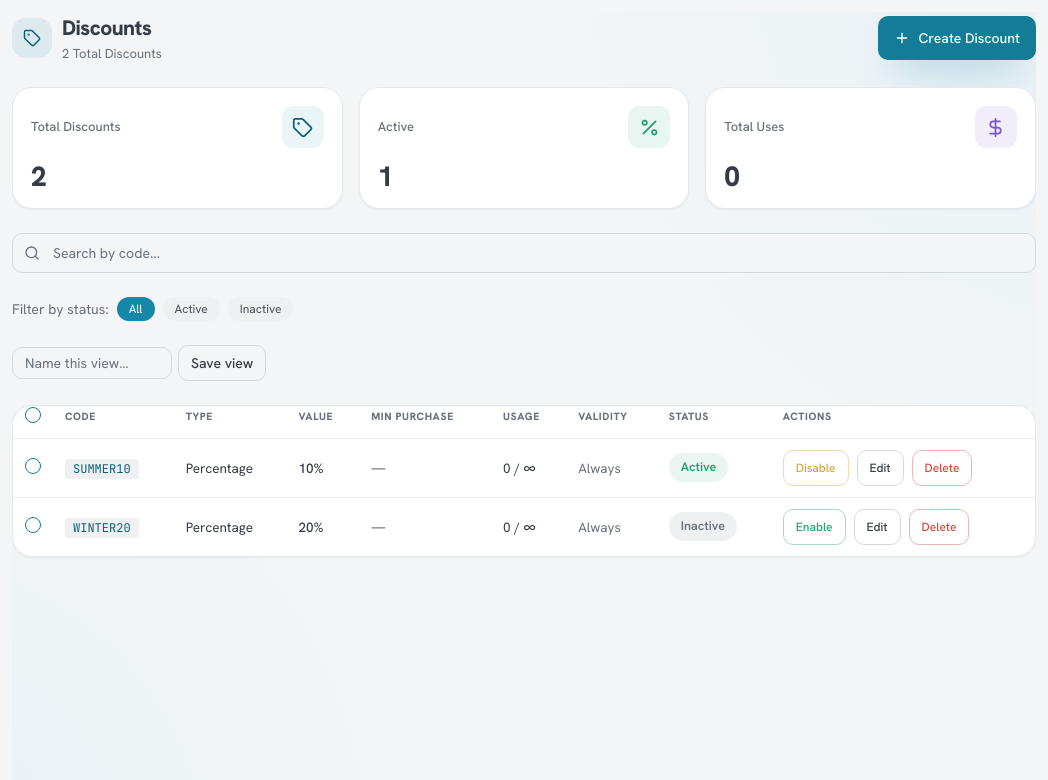
Test: DiscountManagement saved filters (#273) › narrows the book by code search
Expected: the text "SUMMER10" is shown, top-left (65, 459), bottom-right (139, 479)
Expected: the text "WINTER20" is shown, top-left (65, 518), bottom-right (139, 538)
Type "SUMMER" into the search field with placeholder "Search by code..." at {"x": 524, "y": 253}, box top-left (12, 233), bottom-right (1036, 273)
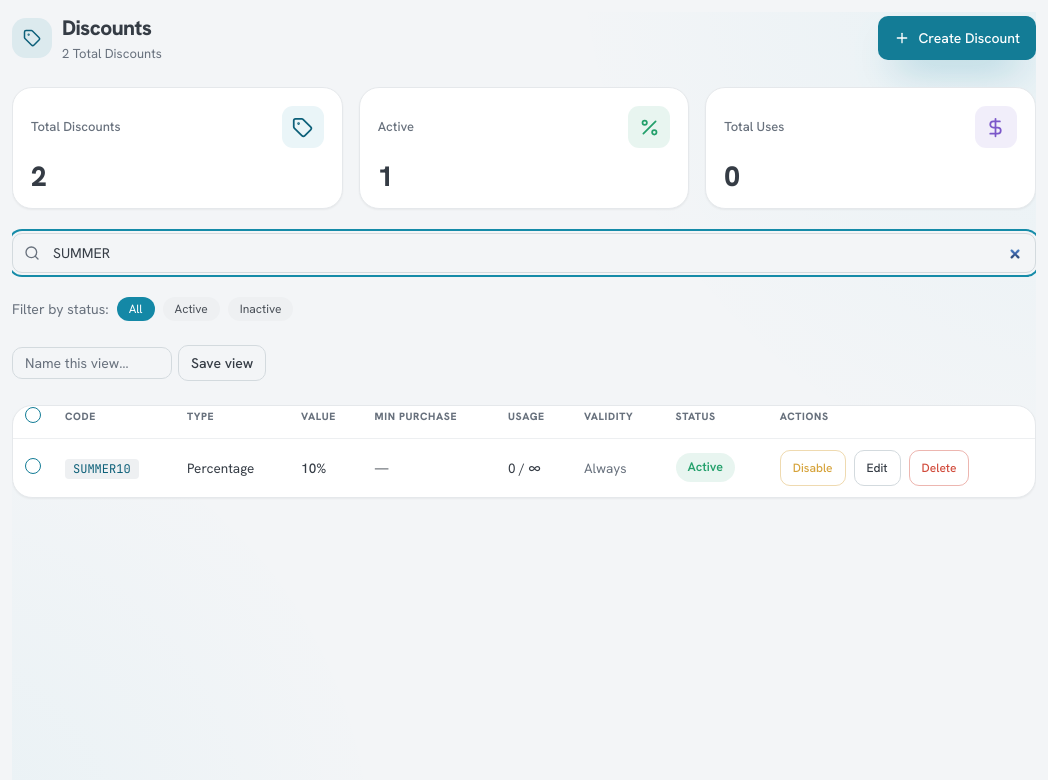
Expected: the text "SUMMER10" is shown, top-left (65, 459), bottom-right (139, 479)
Expected: the text "WINTER20" is gone
